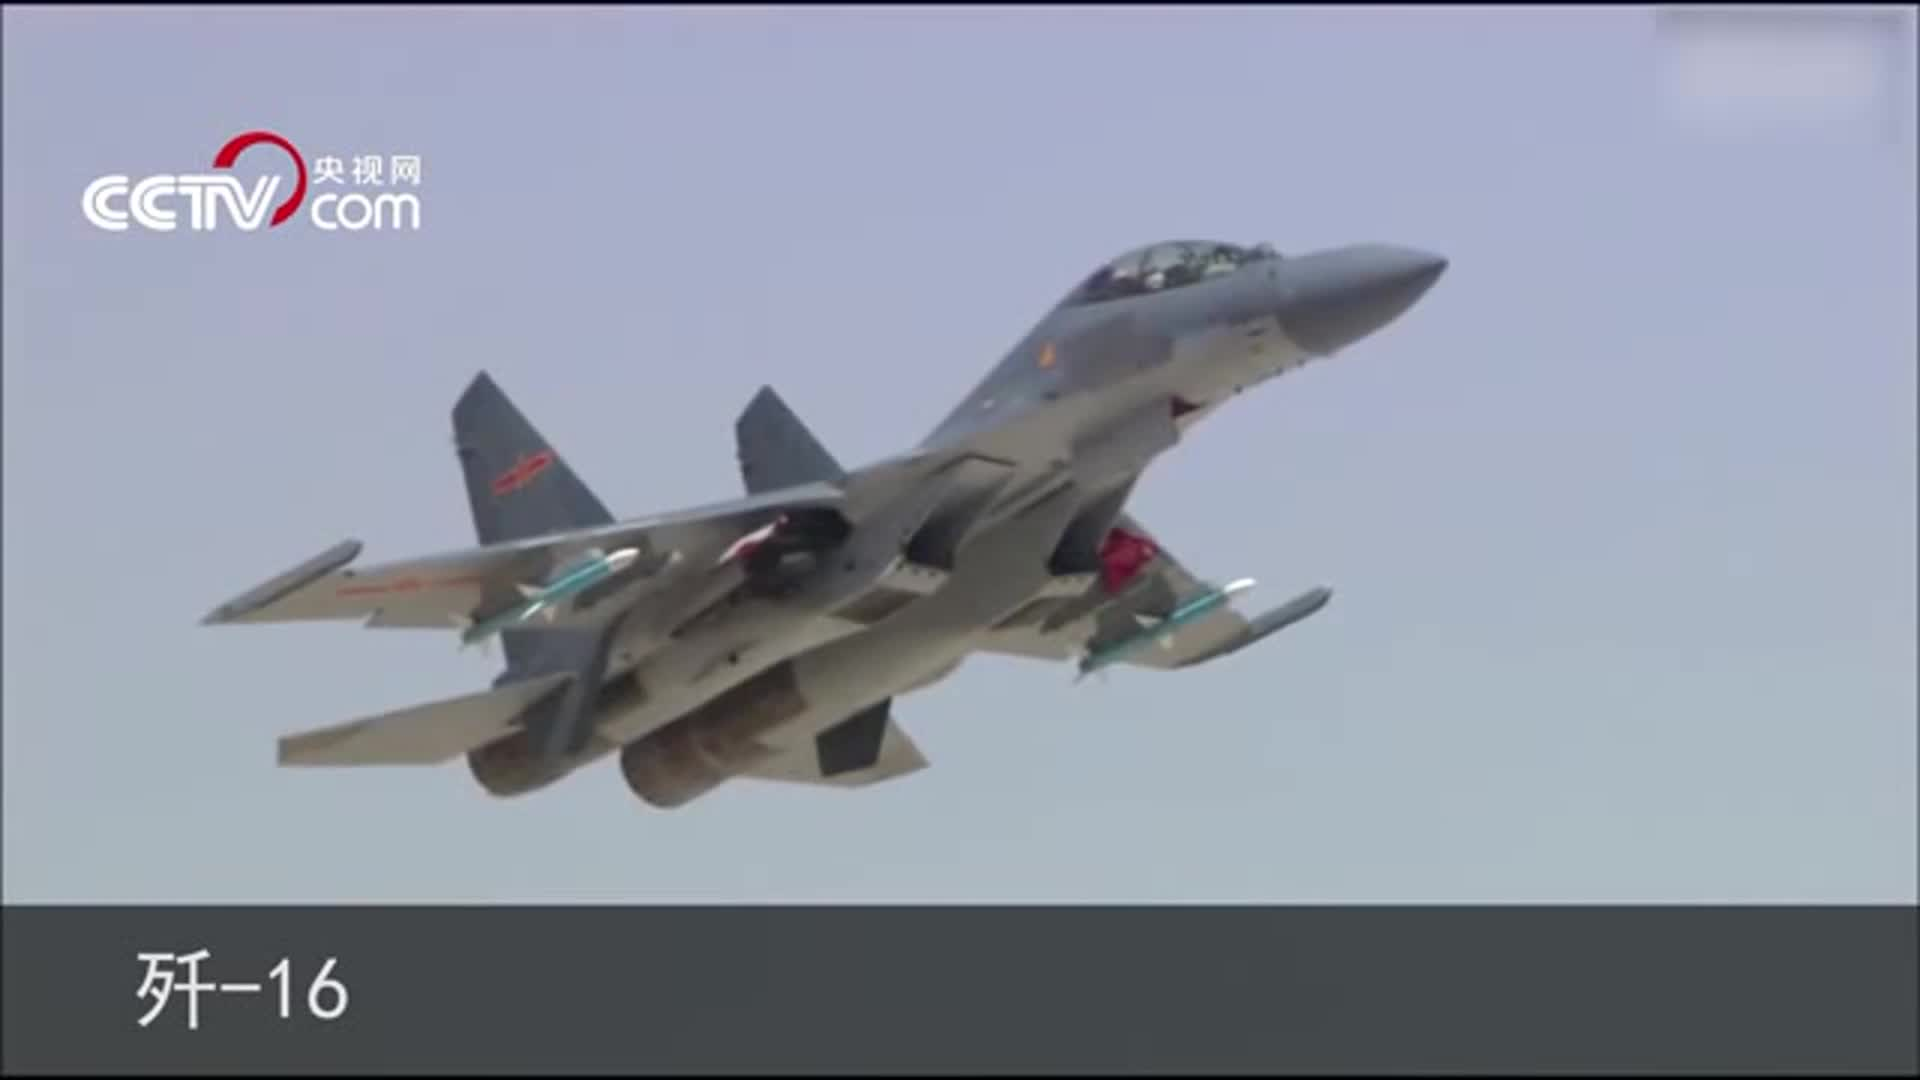airplane: (187, 233, 1458, 818)
